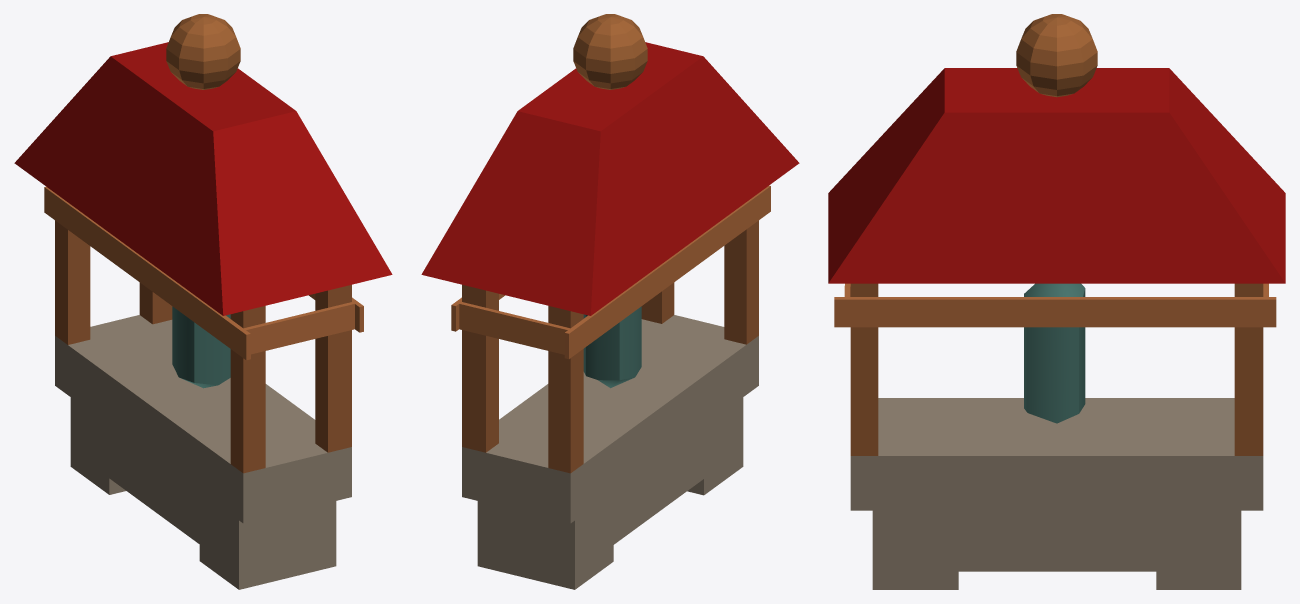
File: healing turret textured.fbx
The picture shows the model from 3 angles, left to right: view 1: azimuth 30°, elevation 25°; view 2: azimuth 150°, elevation 25°; view 3: azimuth 270°, elevation 25°; orthographic projection. The views are drawn at different scales.
Visible parts, largest first — view 1: pCube1, pCube8, pCube3, pSphere1, pCube7, pCube5; view 2: pCube1, pCube8, pCube3, pSphere1, pCube7, pCube4; view 3: pCube8, pCube1, pCube2, pCube7, pSphere1.
Part boxes in pixels (left/top/right/bottom): pCube1: left=55, top=220, right=351, bottom=589; pCube8: left=14, top=42, right=392, bottom=315; pCube3: left=44, top=186, right=250, bottom=360; pSphere1: left=166, top=14, right=240, bottom=89; pCube7: left=172, top=306, right=230, bottom=388; pCube5: left=244, top=302, right=354, bottom=354; pCube1: left=462, top=220, right=758, bottom=589; pCube8: left=421, top=42, right=799, bottom=315; pCube3: left=564, top=185, right=770, bottom=359; pSphere1: left=573, top=14, right=647, bottom=89; pCube7: left=583, top=306, right=641, bottom=388; pCube4: left=459, top=301, right=569, bottom=354; pCube8: left=828, top=68, right=1285, bottom=283; pCube1: left=850, top=283, right=1263, bottom=589; pCube2: left=834, top=297, right=1276, bottom=327; pCube7: left=1024, top=283, right=1085, bottom=423; pSphere1: left=1016, top=14, right=1097, bottom=97.
Size of the model in its own units: 18.76 by 52.86 by 40.08.
